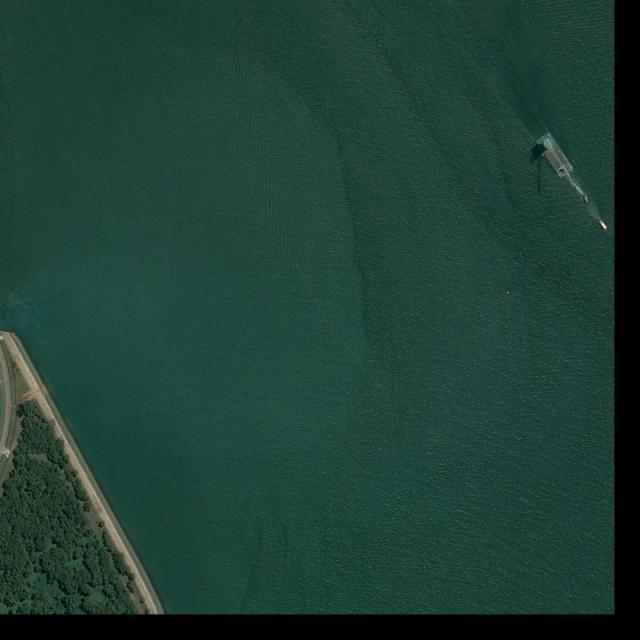ship: (534, 131, 575, 179), (581, 192, 590, 204), (599, 220, 608, 230)
